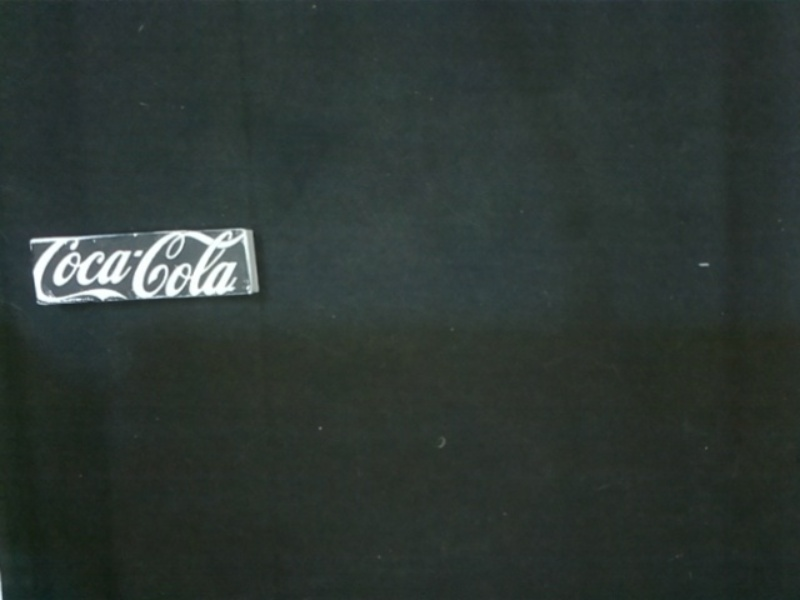coca-cola: (28, 231, 262, 301)
